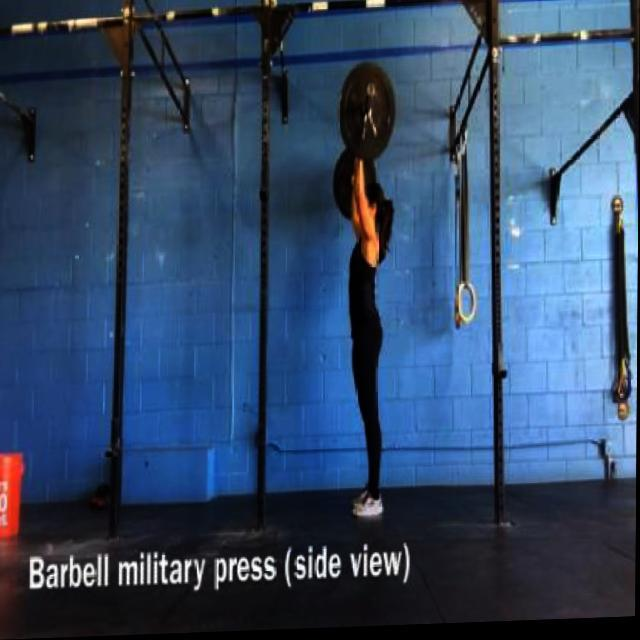barbell: (336, 60, 400, 168)
